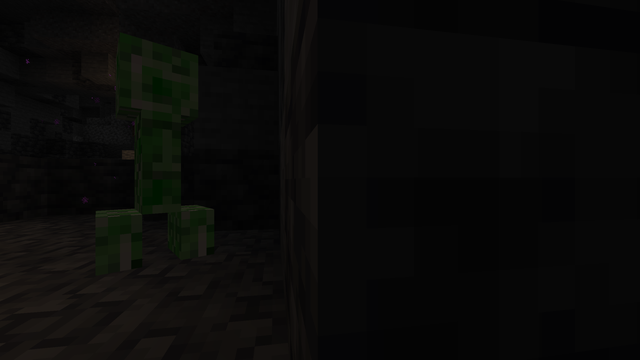creepers: (96, 22, 210, 270)
